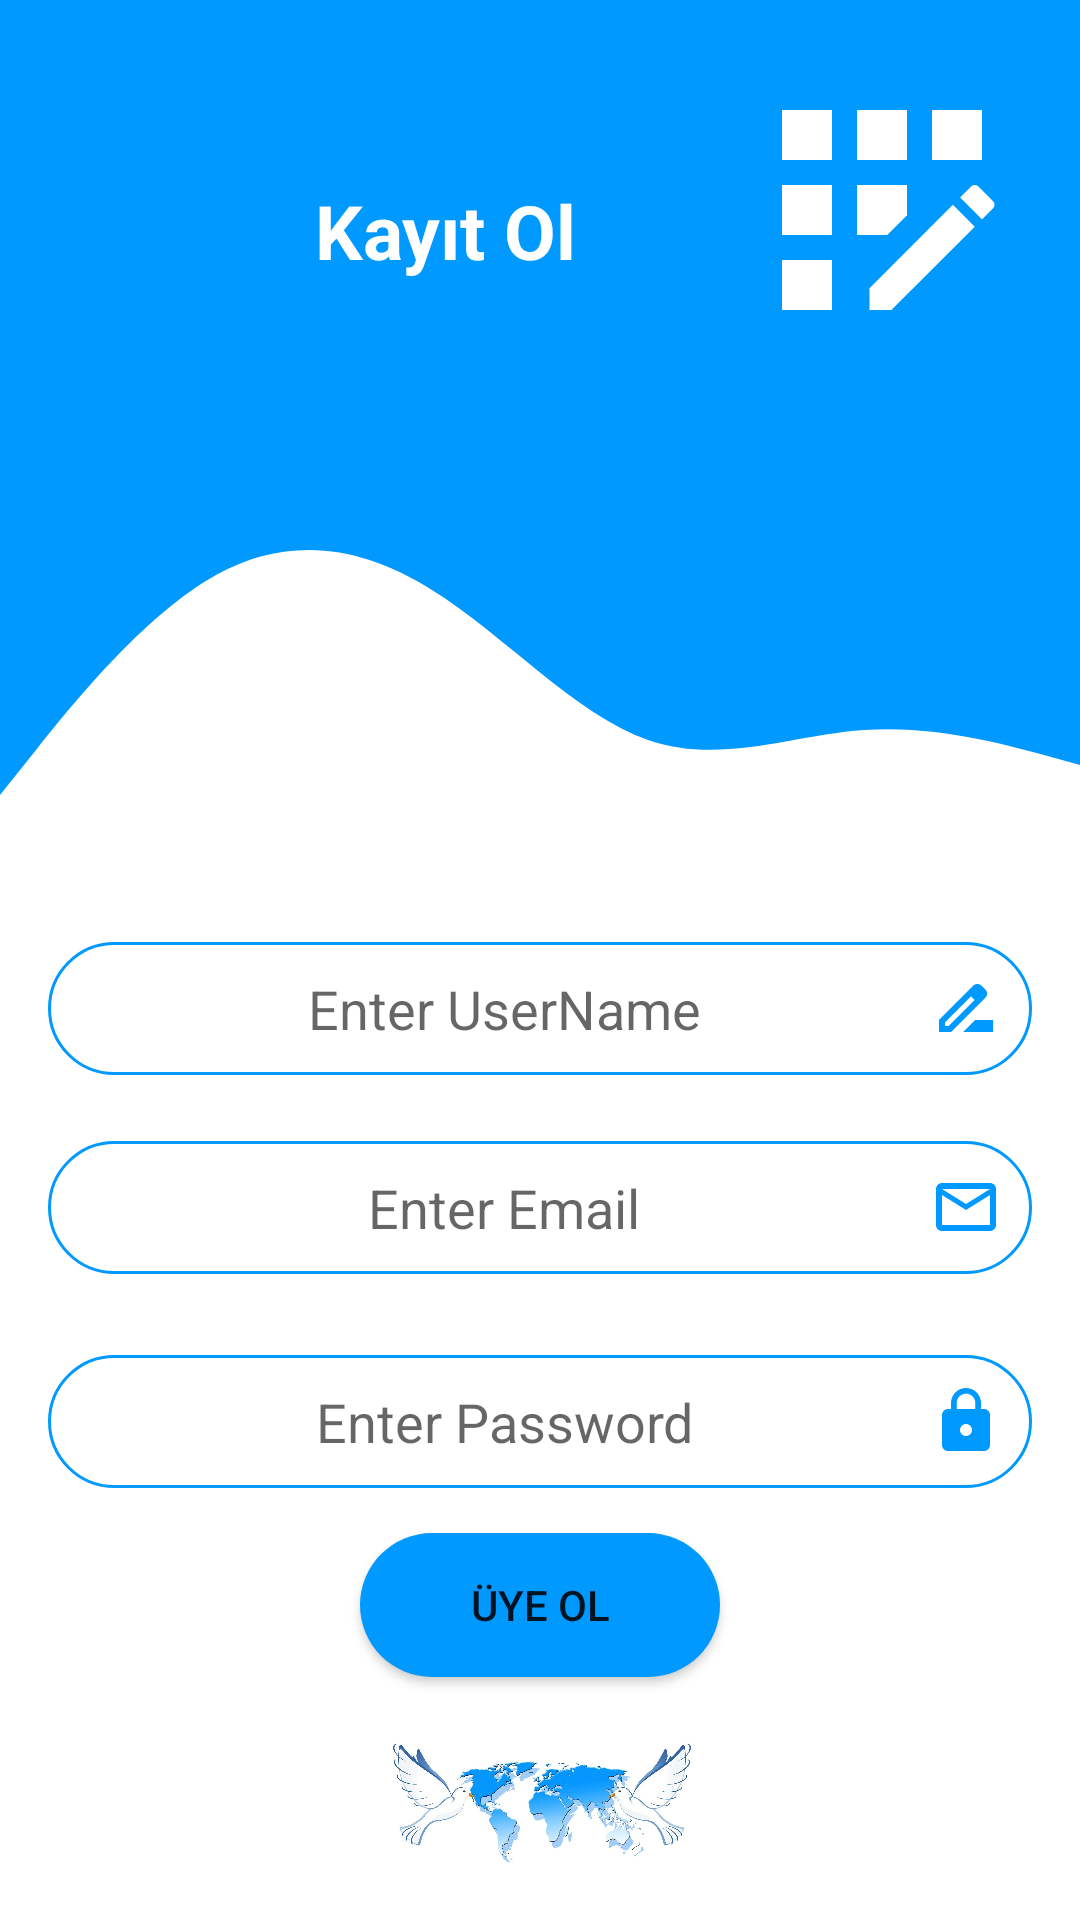

Named icons in this screenshot (1080 × 1920) and their bounding boxes, (x1, y1, x2, y2):
baris: (393, 1744, 691, 1862)
register: (782, 110, 995, 310)
